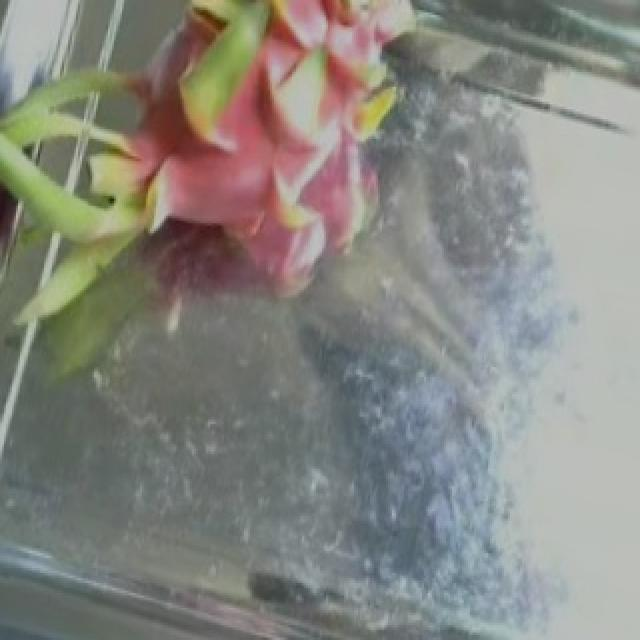fruit: (0, 0, 388, 422)
